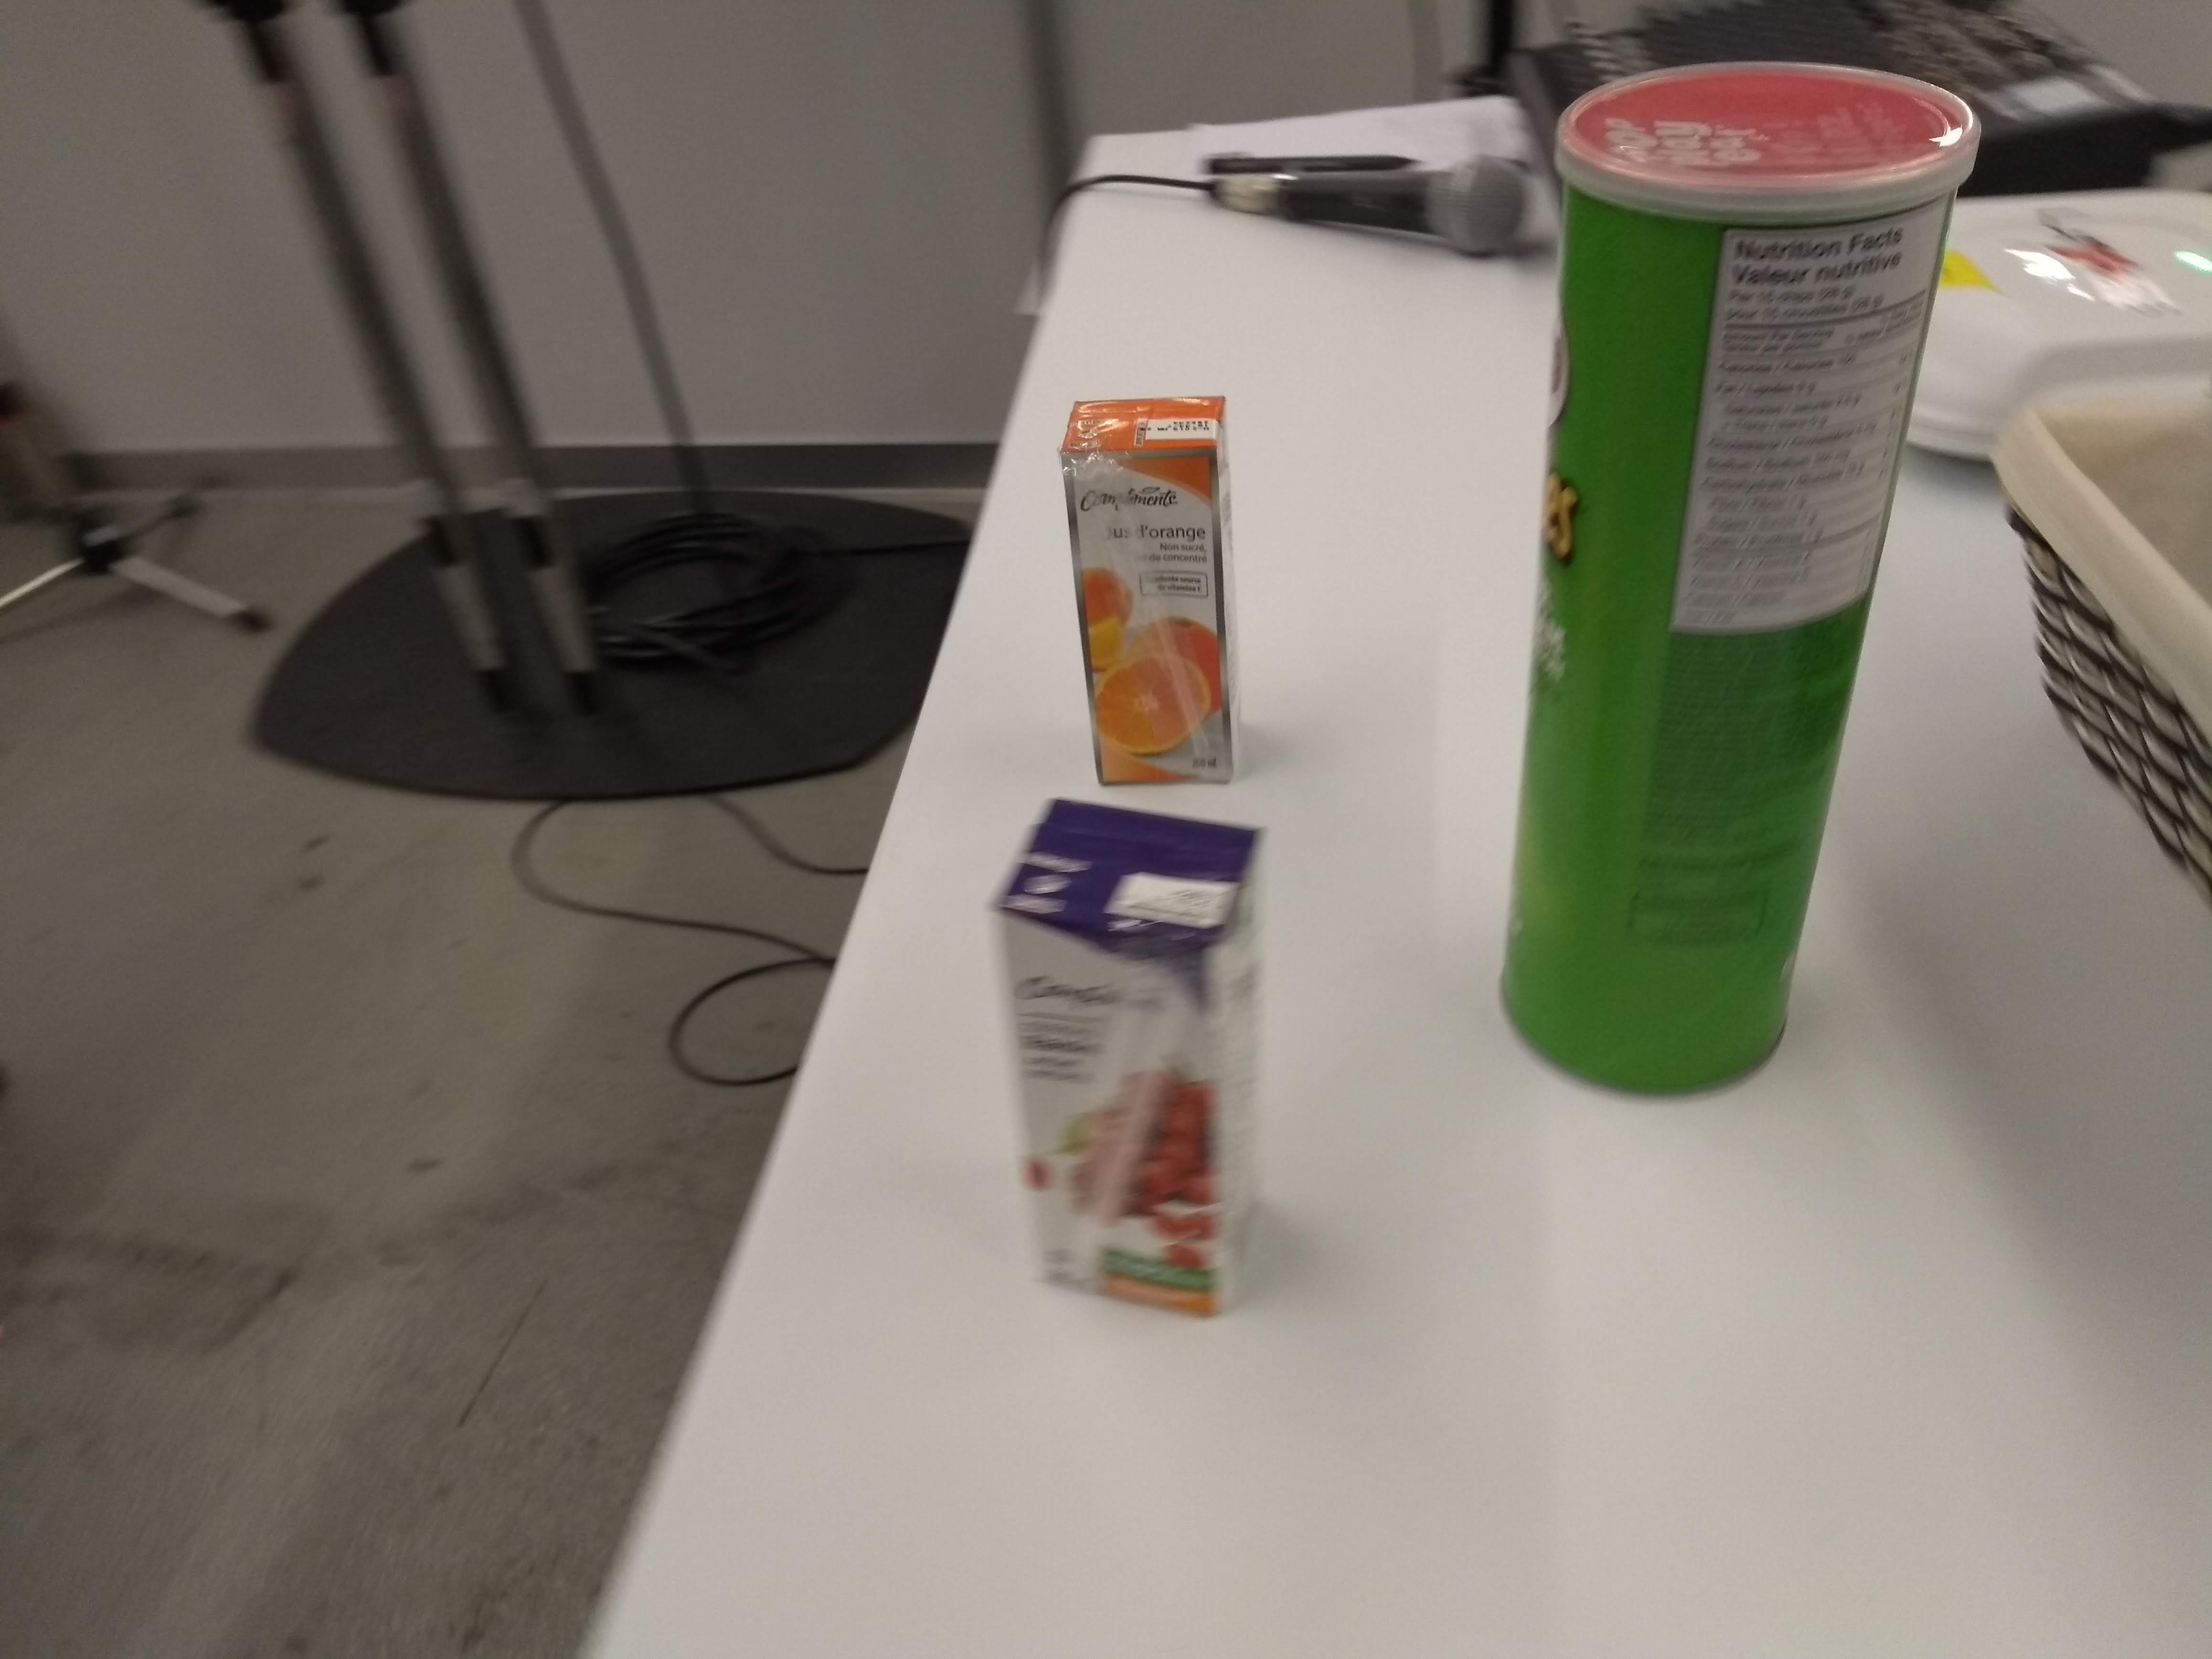grape_juice: (986, 802, 1280, 1326)
orange_juice: (1052, 380, 1247, 793)
pringles: (1484, 42, 1998, 1101)
